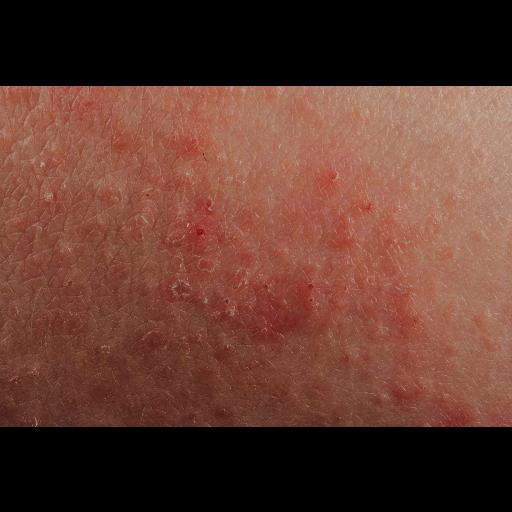Skin_Lesion: (240, 250, 316, 326), (168, 190, 226, 246), (166, 272, 204, 308), (211, 338, 253, 368), (138, 321, 170, 353), (340, 222, 368, 248)
